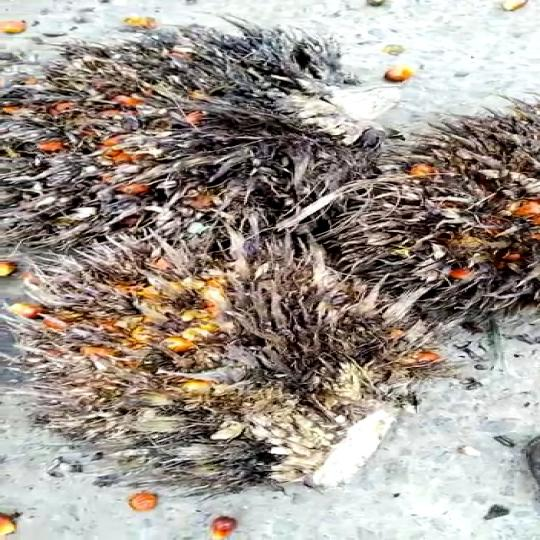terlalu masak: (17, 237, 462, 488), (0, 45, 410, 241)
